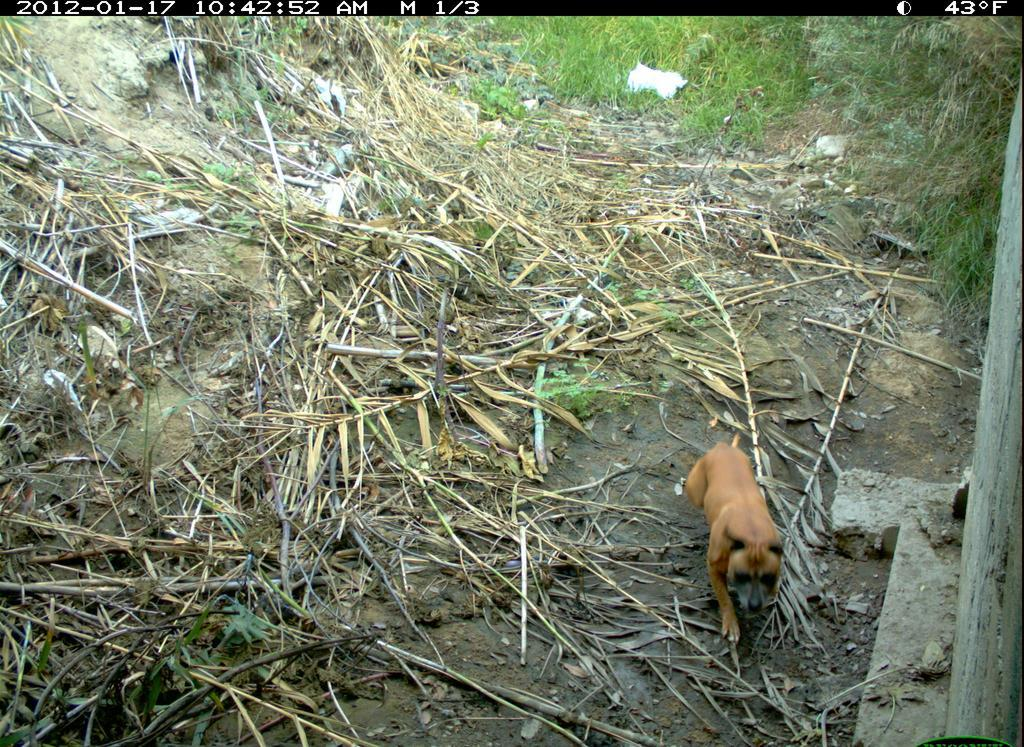dog: (680, 392, 809, 646)
